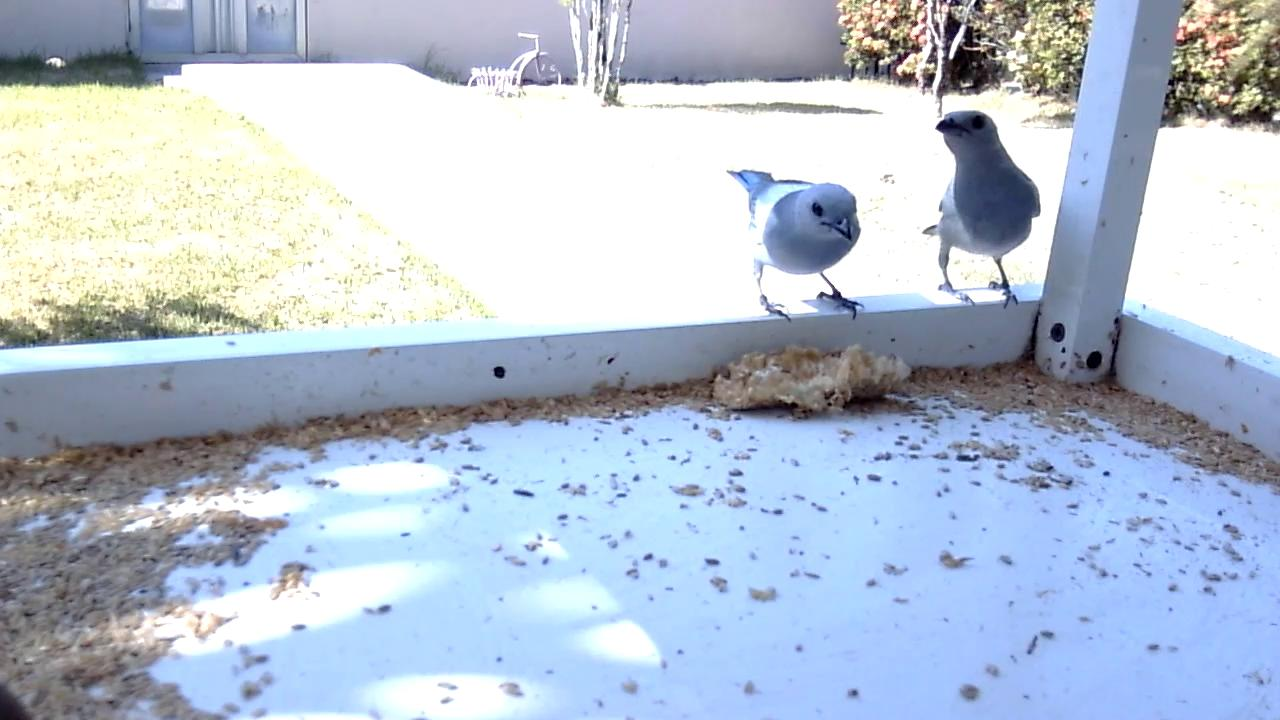sanhaco_da_amazonia: (923, 109, 1046, 313), (728, 169, 865, 323)
